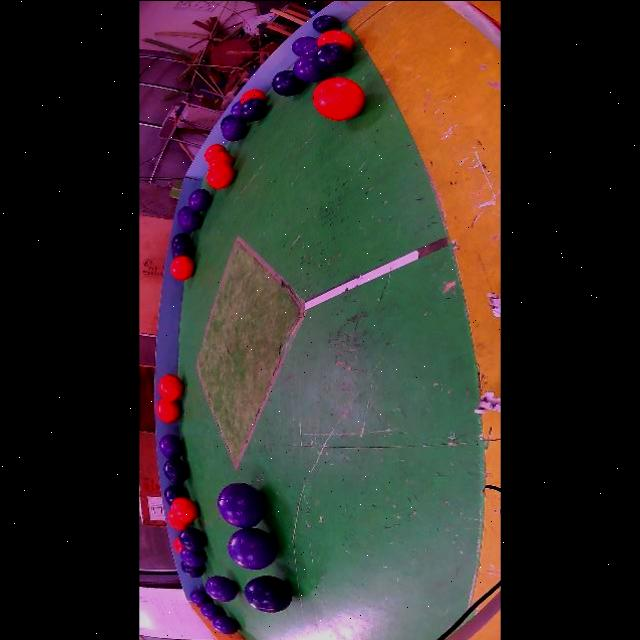B: (244, 574, 293, 612), (313, 42, 353, 72), (273, 68, 305, 95), (163, 457, 190, 482), (240, 97, 268, 120), (180, 526, 206, 550), (171, 232, 195, 257), (313, 14, 342, 32), (165, 485, 188, 505), (181, 560, 206, 577), (221, 114, 234, 128)
P: (217, 481, 266, 528), (229, 526, 278, 569), (294, 55, 329, 81), (206, 575, 239, 601), (177, 206, 202, 231), (222, 117, 248, 140), (159, 433, 183, 457), (188, 188, 211, 211), (212, 614, 239, 633), (200, 602, 225, 619), (292, 36, 312, 56), (190, 589, 212, 606)
R: (313, 76, 366, 120), (207, 162, 235, 188), (158, 373, 183, 401), (318, 29, 354, 48), (172, 496, 198, 521), (171, 255, 195, 280), (157, 398, 181, 422), (209, 151, 234, 168), (168, 510, 190, 529), (205, 143, 226, 162), (240, 89, 266, 102), (173, 536, 183, 553)
